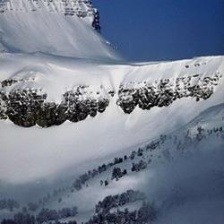neutral: (1, 5, 221, 220)
